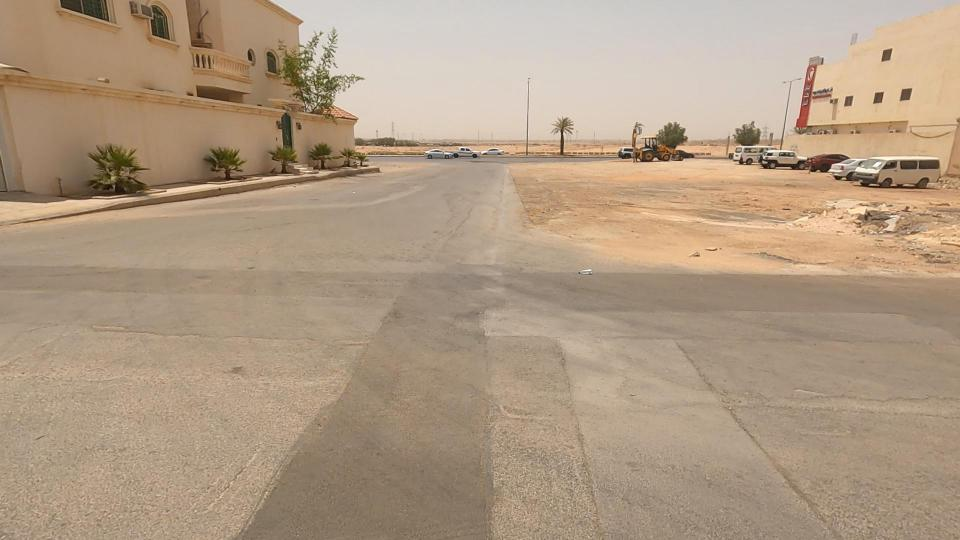GARBAGE: (787, 162, 952, 275), (553, 245, 622, 295)
